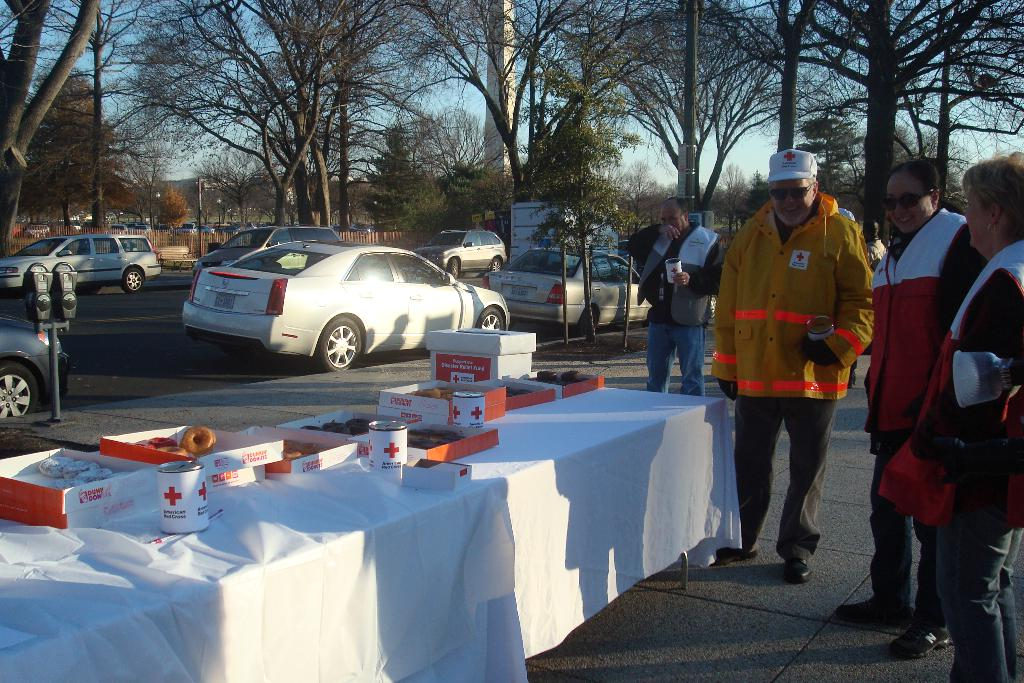Car: (179, 233, 513, 376), (482, 241, 654, 338), (1, 229, 163, 297), (0, 309, 66, 422), (410, 222, 510, 285)
